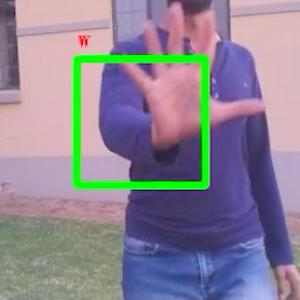follow_hand: (111, 0, 265, 157)
